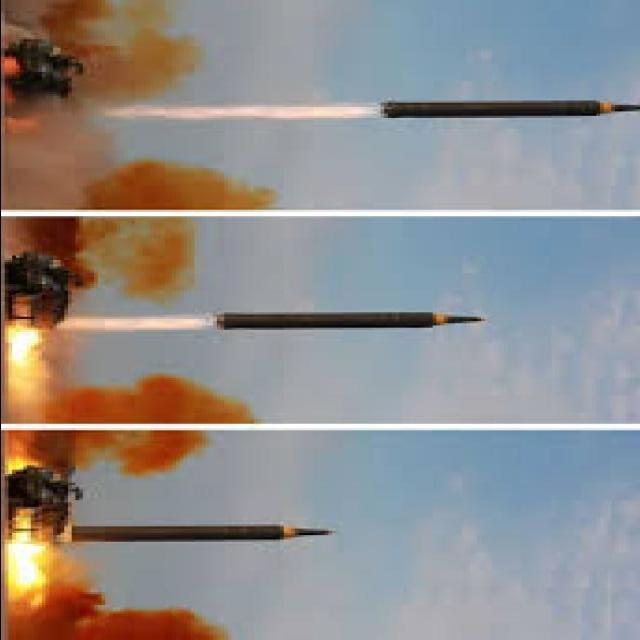missile: (209, 305, 505, 339), (37, 517, 347, 549), (376, 96, 640, 123)
